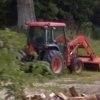Tractor: (18, 12, 91, 76)
